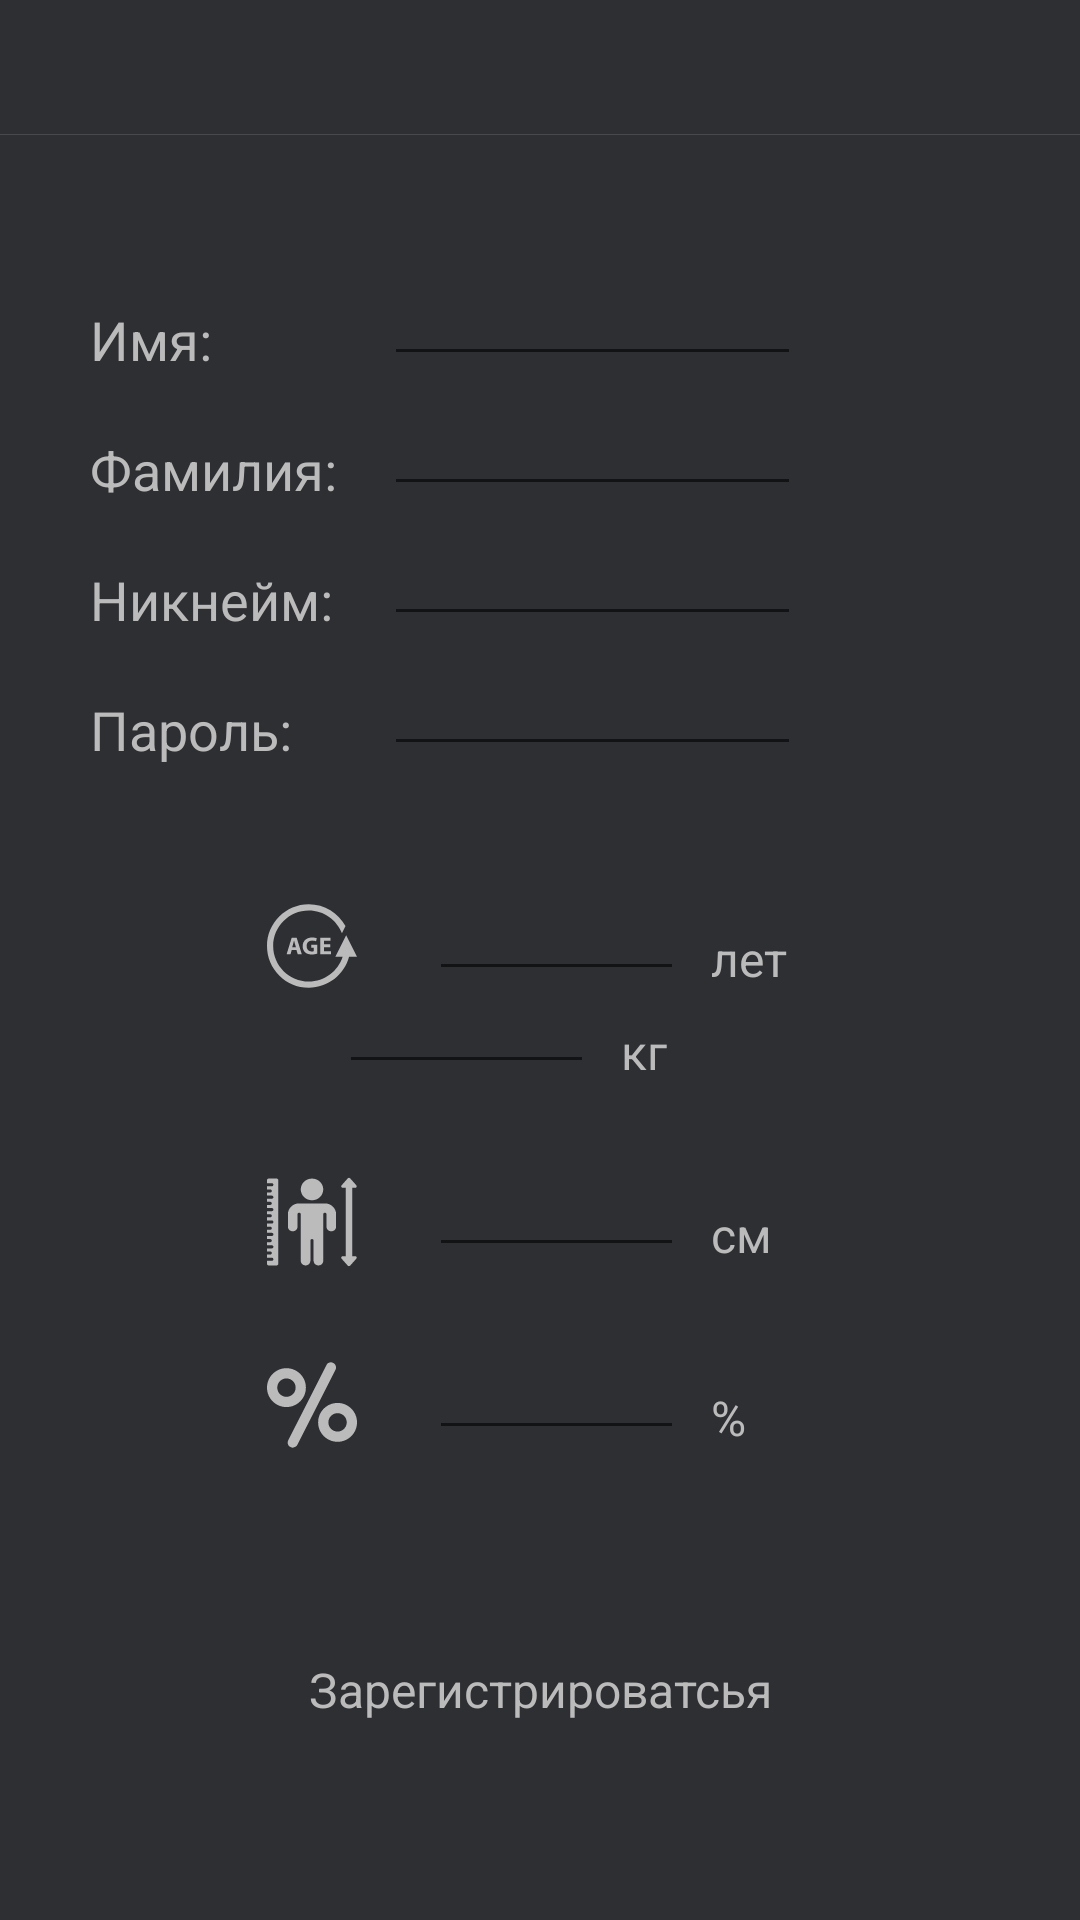

Where to tap for icons on this 1080*1920 app screen, as point (x, y):
height: point (312, 1222)
percent: point (312, 1405)
